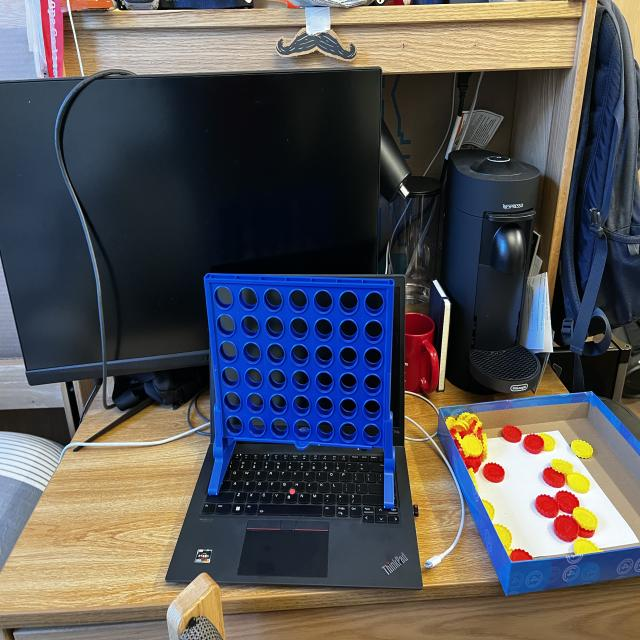Board: (205, 273, 395, 452)
